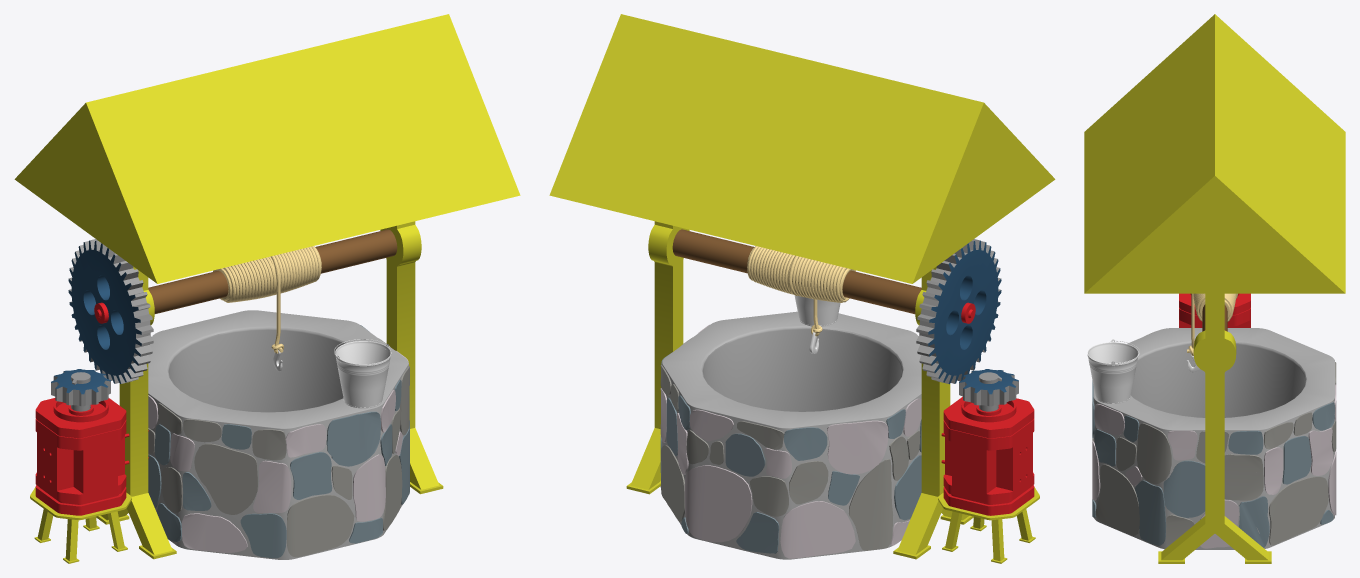
The model's file is Wheel.fbx.
3 views of the same model, side by side, from view 1: azimuth 30°, elevation 25°; view 2: azimuth 150°, elevation 25°; view 3: azimuth 270°, elevation 25° (orthographic). The views are drawn at different scales.
Visible parts, largest first — view 1: Well_LOD0; view 2: Well_LOD0; view 3: Well_LOD0.
Part boxes in pixels (left/top/right/bottom): Well_LOD0: left=14, top=14, right=520, bottom=563; Well_LOD0: left=549, top=14, right=1055, bottom=563; Well_LOD0: left=1084, top=14, right=1345, bottom=563.
Size of what is drawn, in the model's own units: 328 by 200 by 342.
